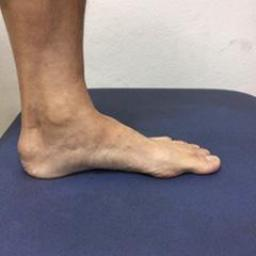Medial View -Left Foot-: (12, 82, 224, 188)
